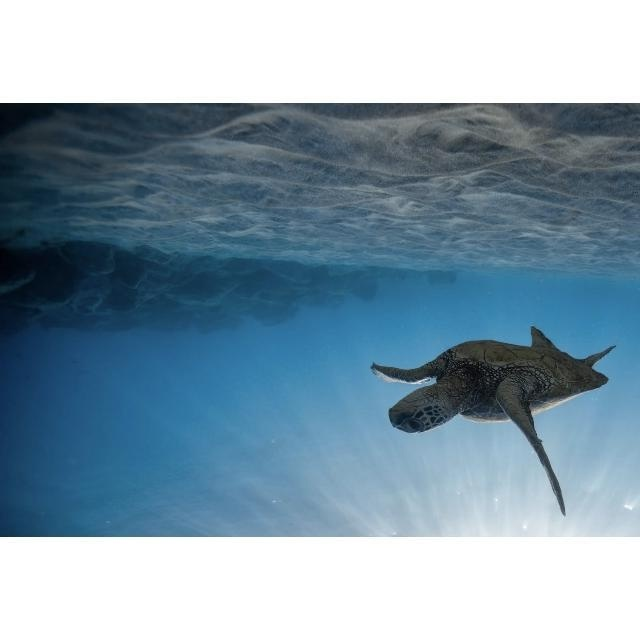turtle: (368, 326, 619, 517)
